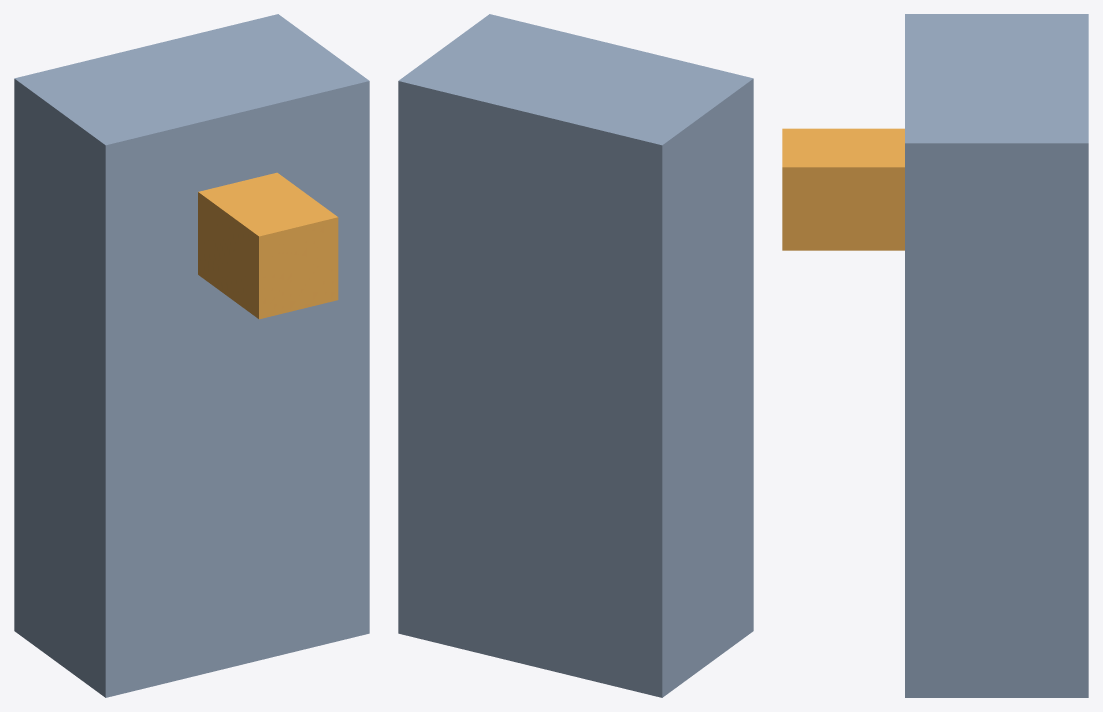
The model's file is Static_NoAnimation.glb.
The picture shows the model from 3 angles, left to right: view 1: azimuth 30°, elevation 25°; view 2: azimuth 150°, elevation 25°; view 3: azimuth 270°, elevation 25°; orthographic projection.
Parts seen in each view (by area): view 1: Body, Nose; view 2: Body; view 3: Body, Nose.
Boxes of the visible parts, <box> form: Body: <box>14,14,369,697</box>; Nose: <box>198,172,338,319</box>; Body: <box>398,14,753,697</box>; Body: <box>905,14,1088,697</box>; Nose: <box>782,128,904,250</box>.
Bounding box in the file's own units: 0.5 × 1 × 0.5.
